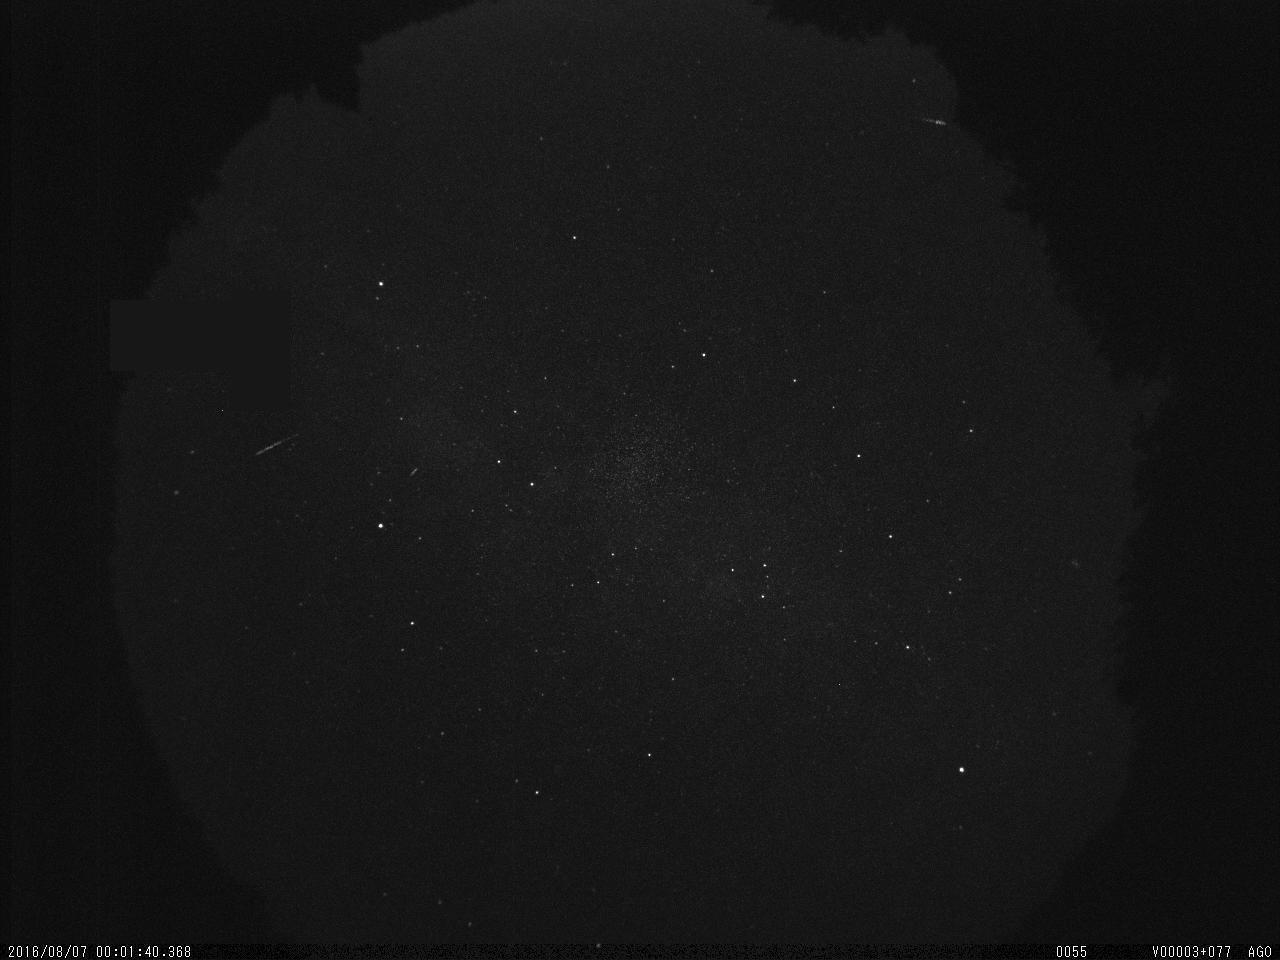Meteor: (251, 428, 305, 460), (913, 110, 950, 132)
